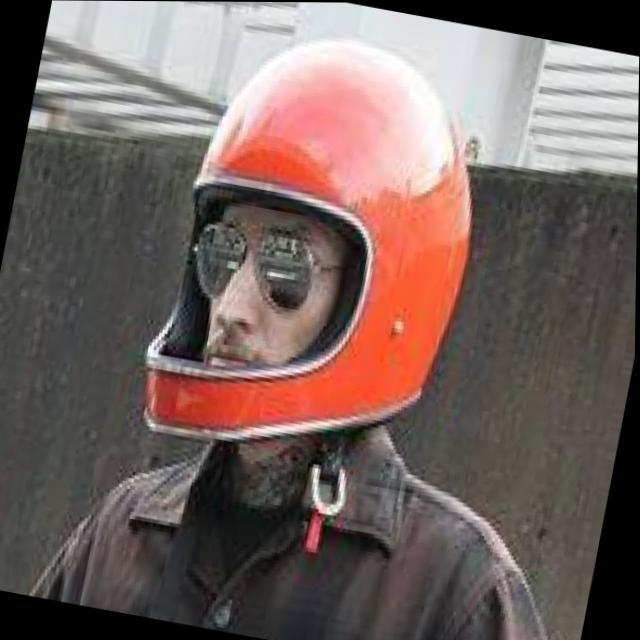Helmet: (129, 25, 477, 453)
